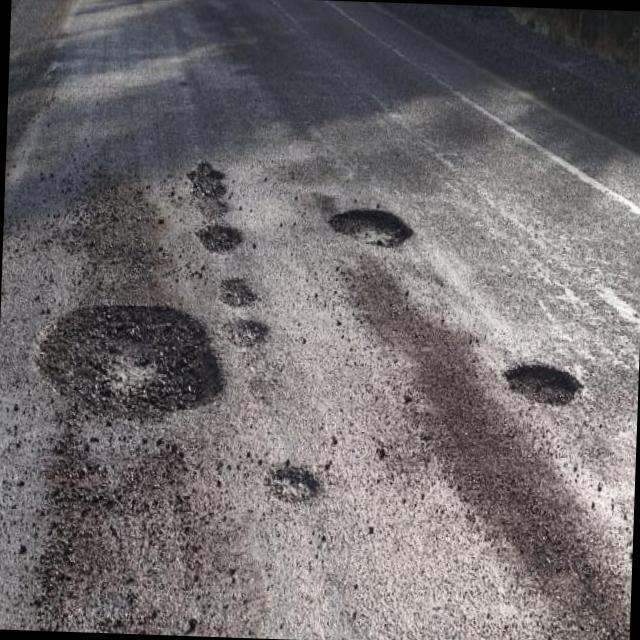Pothole: (38, 306, 223, 419), (188, 160, 242, 251), (330, 209, 412, 246), (506, 363, 579, 403), (267, 461, 319, 500), (226, 317, 268, 345), (220, 277, 257, 307)
